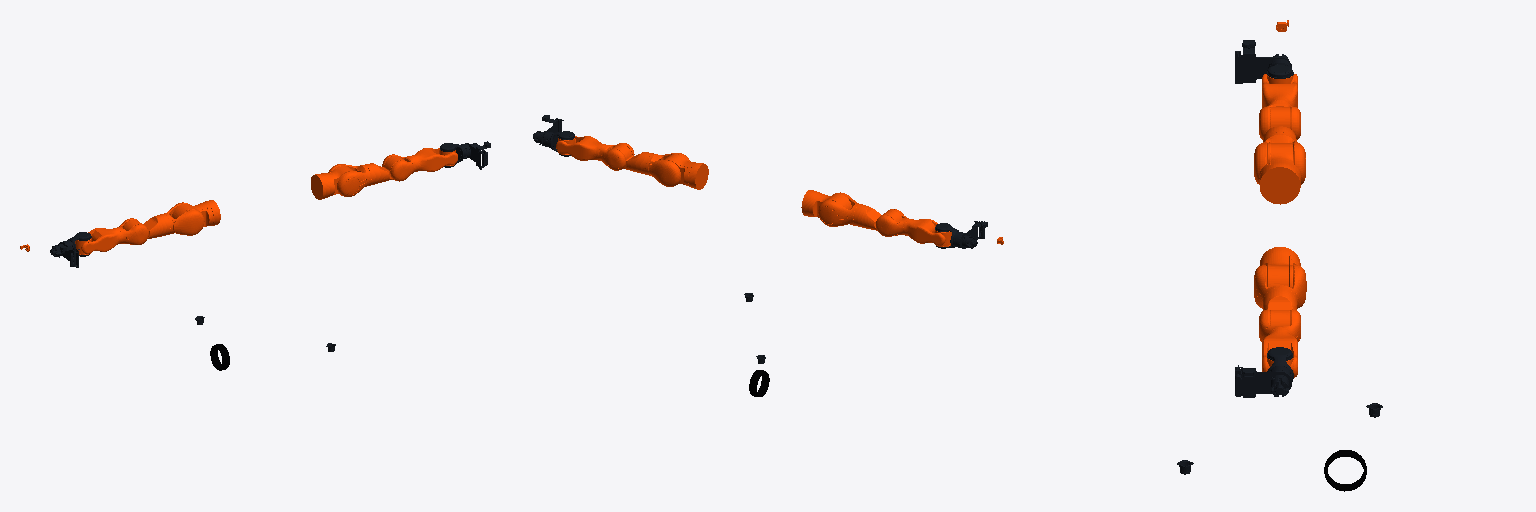
The robot description file, URDF, robot "xczs_inspection_robot":
<?xml version="1.0"?>
<!--
  由 scripts/build-models.mjs 生成，请勿手工编辑。
  源：work01/xczs_inspection_robot_description/urdf/components/*.xacro
  toolset: B（右旋转按钮 / 左摇入摇出 · 旋钮与摇杆）
-->
<robot name="xczs_inspection_robot">

  <material name="industrial_navy">
    <color rgba="0.035 0.145 0.255 1" />
  </material>
  <material name="safety_orange">
    <color rgba="1.0 0.36 0.04 1" />
  </material>
  <material name="graphite_black">
    <color rgba="0.12 0.14 0.17 1" />
  </material>
  <material name="rubber_black">
    <color rgba="0.025 0.025 0.03 1" />
  </material>

    <!-- ============ 本体与底盘 ============ -->
    <link name="body">
      <visual>
        <origin xyz="0.001631 -0.000036 0.228708" rpy="0 0 0" />
        <geometry>
          <mesh filename="dual_arm/body_visual.stl" />
        </geometry>
        <material name="industrial_navy" />
      </visual>
    </link>

    <!-- Nav2 REP-105 基座坐标系：+X 指向底盘物理正前方（本体 -Y） -->
    <link name="base_link" />
    <joint name="body_base_link" type="fixed">
      <origin xyz="0 0 0" rpy="0 0 -1.57079632679" />
      <parent link="body" />
      <child link="base_link" />
    </joint>

    <link name="l_wheel_0">
      <visual>
        <origin xyz="0 0 0" rpy="0 0 0" />
        <geometry>
          <mesh filename="dual_arm/l_wheel_0_visual.stl" />
        </geometry>
        <material name="rubber_black" />
      </visual>
    </link>
    <joint name="l_wheel_0_joint" type="continuous">
      <origin xyz="0.171631 -0.248602 -0.501391" rpy="0 0 1.570796" />
      <parent link="body" />
      <child link="l_wheel_0" />
      <axis xyz="0 1 0" />
    </joint>
    <link name="l_wheel_1">
      <visual>
        <origin xyz="0 0 0" rpy="0 0 0" />
        <geometry>
          <mesh filename="dual_arm/l_wheel_1_visual.stl" />
        </geometry>
        <material name="rubber_black" />
      </visual>
    </link>
    <joint name="l_wheel_1_joint" type="continuous">
      <origin xyz="0.171631 0.241398 -0.501391" rpy="0 0 1.570796" />
      <parent link="body" />
      <child link="l_wheel_1" />
      <axis xyz="0 1 0" />
    </joint>
    <link name="r_wheel_0">
      <visual>
        <origin xyz="0 0 0" rpy="0 0 0" />
        <geometry>
          <mesh filename="dual_arm/r_wheel_0_visual.stl" />
        </geometry>
        <material name="rubber_black" />
      </visual>
    </link>
    <joint name="r_wheel_0_joint" type="continuous">
      <origin xyz="-0.168369 -0.248602 -0.501391" rpy="0 0 -1.570796" />
      <parent link="body" />
      <child link="r_wheel_0" />
      <axis xyz="0 1 0" />
    </joint>
    <link name="r_wheel_1">
      <visual>
        <origin xyz="0 0 0" rpy="0 0 0" />
        <geometry>
          <mesh filename="dual_arm/r_wheel_1_visual.stl" />
        </geometry>
        <material name="rubber_black" />
      </visual>
    </link>
    <joint name="r_wheel_1_joint" type="continuous">
      <origin xyz="-0.168369 0.241398 -0.501391" rpy="0 0 -1.570796" />
      <parent link="body" />
      <child link="r_wheel_1" />
      <axis xyz="0 1 0" />
    </joint>

    <link name="l_laser">
      <visual>
        <origin xyz="-0.001516 0.000086 0.003263" rpy="0 0 0" />
        <geometry>
          <mesh filename="dual_arm/l_laser_visual.stl" />
        </geometry>
        <material name="graphite_black" />
      </visual>
    </link>
    <joint name="l_laser_joint" type="fixed">
      <origin xyz="0.245498 -0.357591 -0.293528" rpy="0 -3.141593 -0.785398" />
      <parent link="body" />
      <child link="l_laser" />
    </joint>
    <link name="r_laser">
      <visual>
        <origin xyz="-0.001516 0.000086 0.003263" rpy="0 0 0" />
        <geometry>
          <mesh filename="dual_arm/r_laser_visual.stl" />
        </geometry>
        <material name="graphite_black" />
      </visual>
    </link>
    <joint name="r_laser_joint" type="fixed">
      <origin xyz="-0.242237 0.350388 -0.293528" rpy="0 0 0" />
      <parent link="body" />
      <child link="r_laser" />
    </joint>

    <!-- ============ 双臂 7 自由度链 ============ -->
    <link name="l_arm_0">
      <visual>
        <origin xyz="-0.000004 0.000048 -0.133262" rpy="0 0 0" />
        <geometry>
          <mesh filename="dual_arm/l_arm_0_visual.stl" />
        </geometry>
        <material name="safety_orange" />
      </visual>
    </link>
    <joint name="l_arm_0_joint" type="revolute">
      <origin xyz="0.353879 -0.003608 0.588076" rpy="0 -1.570796 0" />
      <parent link="body" />
      <child link="l_arm_0" />
      <axis xyz="0 0 1" />
      <limit lower="-3.141593" upper="3.141593" effort="100" velocity="10" />
    </joint>
    <link name="l_arm_1">
      <visual>
        <origin xyz="0 -0.046173 -0.034034" rpy="0 0 0" />
        <geometry>
          <mesh filename="dual_arm/l_arm_1_visual.stl" />
        </geometry>
        <material name="safety_orange" />
      </visual>
    </link>
    <joint name="l_arm_1_joint" type="revolute">
      <origin xyz="-0.000004 0.046447 -0.186762" rpy="0 0 0" />
      <parent link="l_arm_0" />
      <child link="l_arm_1" />
      <axis xyz="0 1 0" />
      <limit lower="-3.141593" upper="3.141593" effort="100" velocity="10" />
    </joint>
    <link name="l_arm_2">
      <visual>
        <origin xyz="0.000028 0.000072 -0.13729" rpy="0 0 0" />
        <geometry>
          <mesh filename="dual_arm/l_arm_2_visual.stl" />
        </geometry>
        <material name="safety_orange" />
      </visual>
    </link>
    <joint name="l_arm_2_joint" type="revolute">
      <origin xyz="-0.000027 -0.046495 -0.149211" rpy="0 0 0" />
      <parent link="l_arm_1" />
      <child link="l_arm_2" />
      <axis xyz="0 0 1" />
      <limit lower="-3.141593" upper="3.141593" effort="100" velocity="10" />
    </joint>
    <link name="l_arm_3">
      <visual>
        <origin xyz="-0.000061 0.000282 -0.021179" rpy="0 0 0" />
        <geometry>
          <mesh filename="dual_arm/l_arm_3_visual.stl" />
        </geometry>
        <material name="safety_orange" />
      </visual>
    </link>
    <joint name="l_arm_3_joint" type="revolute">
      <origin xyz="0.000167 -0.000274 -0.209639" rpy="0 0 0" />
      <parent link="l_arm_2" />
      <child link="l_arm_3" />
      <axis xyz="0 1 0" />
      <limit lower="-3.141593" upper="3.141593" effort="100" velocity="10" />
    </joint>
    <link name="l_arm_4">
      <visual>
        <origin xyz="0 0 -0.141006" rpy="0 0 0" />
        <geometry>
          <mesh filename="dual_arm/l_arm_4_visual.stl" />
        </geometry>
        <material name="safety_orange" />
      </visual>
    </link>
    <joint name="l_arm_4_joint" type="revolute">
      <origin xyz="-0.000139 0.000346 -0.109231" rpy="0 0 0" />
      <parent link="l_arm_3" />
      <child link="l_arm_4" />
      <axis xyz="0 0 1" />
      <limit lower="-3.141593" upper="3.141593" effort="100" velocity="10" />
    </joint>
    <link name="l_arm_5">
      <visual>
        <origin xyz="-0.00375 -0.000614 -0.000002" rpy="0 0 0" />
        <geometry>
          <mesh filename="dual_arm/l_arm_5_visual.stl" />
        </geometry>
        <material name="safety_orange" />
      </visual>
    </link>
    <joint name="l_arm_5_joint" type="revolute">
      <origin xyz="0 0.00062 -0.242595" rpy="0 0 0" />
      <parent link="l_arm_4" />
      <child link="l_arm_5" />
      <axis xyz="0 1 0" />
      <limit lower="-3.141593" upper="3.141593" effort="100" velocity="10" />
    </joint>
    <link name="l_arm_6">
      <visual>
        <origin xyz="0.011866 0.058917 0.084696" rpy="0 0 0" />
        <geometry>
          <mesh filename="dual_arm/l_arm_6_visual.stl" />
        </geometry>
        <material name="graphite_black" />
      </visual>
    </link>
    <joint name="l_arm_6_joint" type="revolute">
      <origin xyz="-0.004013 -0.00058 0" rpy="3.141593 0 0" />
      <parent link="l_arm_5" />
      <child link="l_arm_6" />
      <axis xyz="1 0 0" />
      <limit lower="-3.141593" upper="3.141593" effort="100" velocity="10" />
    </joint>

    <link name="r_arm_0">
      <visual>
        <origin xyz="-0.000004 0.000048 -0.133262" rpy="0 0 0" />
        <geometry>
          <mesh filename="dual_arm/r_arm_0_visual.stl" />
        </geometry>
        <material name="safety_orange" />
      </visual>
    </link>
    <joint name="r_arm_0_joint" type="revolute">
      <origin xyz="-0.350618 -0.003596 0.588076" rpy="-3.141593 -1.570796 0" />
      <parent link="body" />
      <child link="r_arm_0" />
      <axis xyz="0 0 1" />
      <limit lower="-3.141593" upper="3.141593" effort="100" velocity="10" />
    </joint>
    <link name="r_arm_1">
      <visual>
        <origin xyz="0 -0.046173 -0.034034" rpy="0 0 0" />
        <geometry>
          <mesh filename="dual_arm/r_arm_1_visual.stl" />
        </geometry>
        <material name="safety_orange" />
      </visual>
    </link>
    <joint name="r_arm_1_joint" type="revolute">
      <origin xyz="-0.000004 0.046447 -0.186762" rpy="0 0 0" />
      <parent link="r_arm_0" />
      <child link="r_arm_1" />
      <axis xyz="0 1 0" />
      <limit lower="-3.141593" upper="3.141593" effort="100" velocity="10" />
    </joint>
    <link name="r_arm_2">
      <visual>
        <origin xyz="0.000028 0.000072 -0.13729" rpy="0 0 0" />
        <geometry>
          <mesh filename="dual_arm/r_arm_2_visual.stl" />
        </geometry>
        <material name="safety_orange" />
      </visual>
    </link>
    <joint name="r_arm_2_joint" type="revolute">
      <origin xyz="-0.000027 -0.046495 -0.149211" rpy="0 0 0" />
      <parent link="r_arm_1" />
      <child link="r_arm_2" />
      <axis xyz="0 0 1" />
      <limit lower="-3.141593" upper="3.141593" effort="100" velocity="10" />
    </joint>
    <link name="r_arm_3">
      <visual>
        <origin xyz="-0.000061 0.000282 -0.021179" rpy="0 0 0" />
        <geometry>
          <mesh filename="dual_arm/r_arm_3_visual.stl" />
        </geometry>
        <material name="safety_orange" />
      </visual>
    </link>
    <joint name="r_arm_3_joint" type="revolute">
      <origin xyz="0.000167 -0.000274 -0.209639" rpy="0 0 0" />
      <parent link="r_arm_2" />
      <child link="r_arm_3" />
      <axis xyz="0 1 0" />
      <limit lower="-3.141593" upper="3.141593" effort="100" velocity="10" />
    </joint>
    <link name="r_arm_4">
      <visual>
        <origin xyz="0 0 -0.141006" rpy="0 0 0" />
        <geometry>
          <mesh filename="dual_arm/r_arm_4_visual.stl" />
        </geometry>
        <material name="safety_orange" />
      </visual>
    </link>
    <joint name="r_arm_4_joint" type="revolute">
      <origin xyz="-0.000139 0.000346 -0.109231" rpy="0 0 0" />
      <parent link="r_arm_3" />
      <child link="r_arm_4" />
      <axis xyz="0 0 1" />
      <limit lower="-3.141593" upper="3.141593" effort="100" velocity="10" />
    </joint>
    <link name="r_arm_5">
      <visual>
        <origin xyz="-0.00375 -0.000614 -0.000002" rpy="0 0 0" />
        <geometry>
          <mesh filename="dual_arm/r_arm_5_visual.stl" />
        </geometry>
        <material name="safety_orange" />
      </visual>
    </link>
    <joint name="r_arm_5_joint" type="revolute">
      <origin xyz="0 0.00062 -0.242595" rpy="0 0 0" />
      <parent link="r_arm_4" />
      <child link="r_arm_5" />
      <axis xyz="0 1 0" />
      <limit lower="-3.141593" upper="3.141593" effort="100" velocity="10" />
    </joint>
    <link name="r_arm_6">
      <visual>
        <origin xyz="0.011866 0.058802 -0.084696" rpy="0 0 0" />
        <geometry>
          <mesh filename="dual_arm/r_arm_6_visual.stl" />
        </geometry>
        <material name="graphite_black" />
      </visual>
    </link>
    <joint name="r_arm_6_joint" type="revolute">
      <origin xyz="-0.004013 -0.00058 0" rpy="0 0 0" />
      <parent link="r_arm_5" />
      <child link="r_arm_6" />
      <axis xyz="1 0 0" />
      <limit lower="-3.141593" upper="3.141593" effort="100" velocity="10" />
    </joint>

    <!-- ============ 腕部相机壳体 ============ -->
    <link name="l_camera">
      <visual>
        <origin xyz="-0.000001 0 0" rpy="0 0 0" />
        <geometry>
          <mesh filename="dual_arm/l_camera_visual.stl" />
        </geometry>
        <material name="graphite_black" />
      </visual>
    </link>
    <joint name="l_camera_joint" type="fixed">
      <origin xyz="0.004026 0.156793 0.17894" rpy="-3.13956 1.570795 0" />
      <parent link="l_arm_6" />
      <child link="l_camera" />
    </joint>
    <link name="r_camera">
      <visual>
        <origin xyz="-0.000001 0 0" rpy="0 0 0" />
        <geometry>
          <mesh filename="dual_arm/r_camera_visual.stl" />
        </geometry>
        <material name="graphite_black" />
      </visual>
    </link>
    <joint name="r_camera_joint" type="fixed">
      <origin xyz="0.004026 0.156678 -0.17894" rpy="-3.13956 1.570795 0" />
      <parent link="r_arm_6" />
      <child link="r_camera" />
    </joint>

    <!-- ============ 末端工具套装 B ============ -->
    <link name="r_rotbtn_body">
      <visual>
        <origin xyz="0 0 0" rpy="0 0 0" />
        <geometry>
          <mesh filename="tools/rotate_button/endbody.STL" />
        </geometry>
        <material name="graphite_black" />
      </visual>
    </link>
    <joint name="r_rotbtn_mount" type="fixed">
      <origin xyz="0.0040 0.0000 -0.1984" rpy="0 3.14159265359 0" />
      <parent link="r_arm_6" />
      <child link="r_rotbtn_body" />
    </joint>

    <!-- 按压杆尖端业务坐标（无视觉） -->
    <link name="r_rotbtn_probe_tip" />
    <joint name="r_rotbtn_probe_tip_joint" type="fixed">
      <origin xyz="-0.06128 0.198 0.1525" rpy="1.5707963267948966 0 0" />
      <parent link="r_rotbtn_body" />
      <child link="r_rotbtn_probe_tip" />
    </joint>

    <link name="r_rotbtn_rotate">
      <visual>
        <origin xyz="0 0 0" rpy="0 0 0" />
        <geometry>
          <mesh filename="tools/rotate_button/rotate.STL" />
        </geometry>
        <material name="safety_orange" />
      </visual>
    </link>
    <joint name="r_rotbtn_rotate_joint" type="revolute">
      <origin xyz="-0.06128 -0.006 0.1725" rpy="0 0 0" />
      <parent link="r_rotbtn_body" />
      <child link="r_rotbtn_rotate" />
      <axis xyz="0 0 1" />
      <limit lower="-3.14" upper="3.14" effort="100" velocity="1" />
    </joint>

    <link name="r_rotbtn_jaw1">
      <visual>
        <origin xyz="0 0 0" rpy="0 0 0" />
        <geometry>
          <mesh filename="tools/rotate_button/endlink1.STL" />
        </geometry>
        <material name="safety_orange" />
      </visual>
    </link>
    <joint name="r_rotbtn_jaw1_joint" type="prismatic">
      <origin xyz="0.0106 -0.0035 0.016" rpy="0 0 0" />
      <parent link="r_rotbtn_rotate" />
      <child link="r_rotbtn_jaw1" />
      <axis xyz="0 -1 0" />
      <limit lower="0" upper="0.018" effort="100" velocity="1" />
    </joint>
    <link name="r_rotbtn_jaw2">
      <visual>
        <origin xyz="0 0 0" rpy="0 0 0" />
        <geometry>
          <mesh filename="tools/rotate_button/endlink2.STL" />
        </geometry>
        <material name="safety_orange" />
      </visual>
    </link>
    <joint name="r_rotbtn_jaw2_joint" type="prismatic">
      <origin xyz="-0.0106 0.0035 0.016" rpy="0 0 0" />
      <parent link="r_rotbtn_rotate" />
      <child link="r_rotbtn_jaw2" />
      <axis xyz="0 1 0" />
      <limit lower="0" upper="0.018" effort="100" velocity="1" />
    </joint>

    <link name="l_rocker_body">
      <visual>
        <origin xyz="0 0 0" rpy="0 0 0" />
        <geometry>
          <mesh filename="tools/rocker/endbody2.STL" />
        </geometry>
        <material name="graphite_black" />
      </visual>
    </link>
    <joint name="l_rocker_mount" type="fixed">
      <origin xyz="0.0040 0.0001 0.1984" rpy="0 0 0" />
      <parent link="l_arm_6" />
      <child link="l_rocker_body" />
    </joint>

    <link name="l_rocker_rotor">
      <visual>
        <origin xyz="0 0 0" rpy="0 0 0" />
        <geometry>
          <mesh filename="tools/rocker/endrotatelink.STL" />
        </geometry>
        <material name="safety_orange" />
      </visual>
    </link>
    <joint name="l_rocker_rotor_joint" type="continuous">
      <origin xyz="-0.01 -0.07 0.2611" rpy="0 0 0" />
      <parent link="l_rocker_body" />
      <child link="l_rocker_rotor" />
      <axis xyz="0 0 1" />
      <limit effort="100" velocity="1" />
    </joint>
</robot>

--- Render facts (derived) ---
The picture shows the robot from 3 angles, left to right: view 1: azimuth 30°, elevation 25°; view 2: azimuth 150°, elevation 25°; view 3: azimuth 270°, elevation 25°; orthographic projection.
Robot: xczs_inspection_robot — 31 links, 30 joints (15 revolute, 5 continuous, 2 prismatic, 8 fixed); root link body; default pose: all joints at 0.
Links seen in each view (by area): view 1: l_arm_1, r_arm_1, l_arm_0, r_arm_4, l_arm_4, l_arm_6, r_arm_0, r_arm_6, r_arm_2; view 2: l_arm_1, r_arm_1, l_arm_0, r_arm_4, l_arm_4, r_arm_6, l_arm_6, r_arm_0, r_arm_2, l_arm_3, l_arm_2; view 3: r_arm_0, l_arm_6, r_arm_6, l_arm_0, r_arm_1, l_arm_1, l_arm_2, l_arm_4, r_arm_4, r_arm_3, r_wheel_1, l_arm_3 (+1 smaller).
Boxes of the visible links, x1,y1,x2,y2 form: l_arm_1: (328,164,370,196); r_arm_1: (164,202,204,235); l_arm_0: (311,165,352,199); r_arm_4: (82,228,122,253); l_arm_4: (412,148,457,171); l_arm_6: (440,141,490,169); r_arm_0: (172,200,220,226); r_arm_6: (50,232,91,267); r_arm_2: (123,214,170,238); l_arm_1: (646,153,690,186); r_arm_1: (818,192,858,226); l_arm_0: (665,154,708,189); r_arm_4: (903,218,944,245); l_arm_4: (556,136,603,160); r_arm_6: (935,221,987,248); l_arm_6: (533,115,574,156); r_arm_0: (801,190,851,217); r_arm_2: (853,204,902,230); l_arm_3: (599,143,634,170); l_arm_2: (612,144,653,174); r_arm_0: (1259,143,1300,204); l_arm_6: (1235,347,1293,397); r_arm_6: (1235,40,1293,83); l_arm_0: (1260,247,1300,287); r_arm_1: (1254,132,1305,184); l_arm_1: (1254,265,1306,308); l_arm_2: (1263,288,1297,325); l_arm_4: (1262,327,1297,377); r_arm_4: (1262,74,1297,107); r_arm_3: (1259,100,1300,139); r_wheel_1: (1324,450,1366,491); l_arm_3: (1259,309,1300,341).
Bounding box of the posed robot: 3.13 × 0.7716 × 1.25 m (x, y, z).
Meshes: 29 distinct files referenced, 21 mesh visuals loaded (21 binary STL); not drawn: 8 (reference not matched to a file when rendering).
